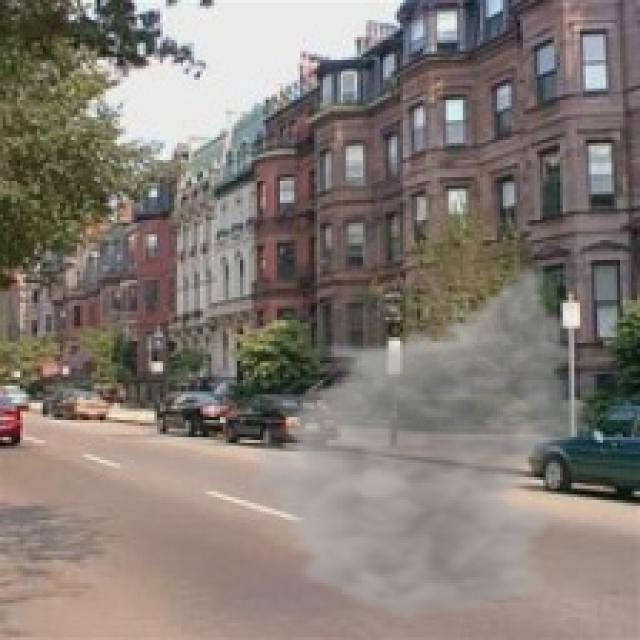smoke: (240, 263, 603, 623)
